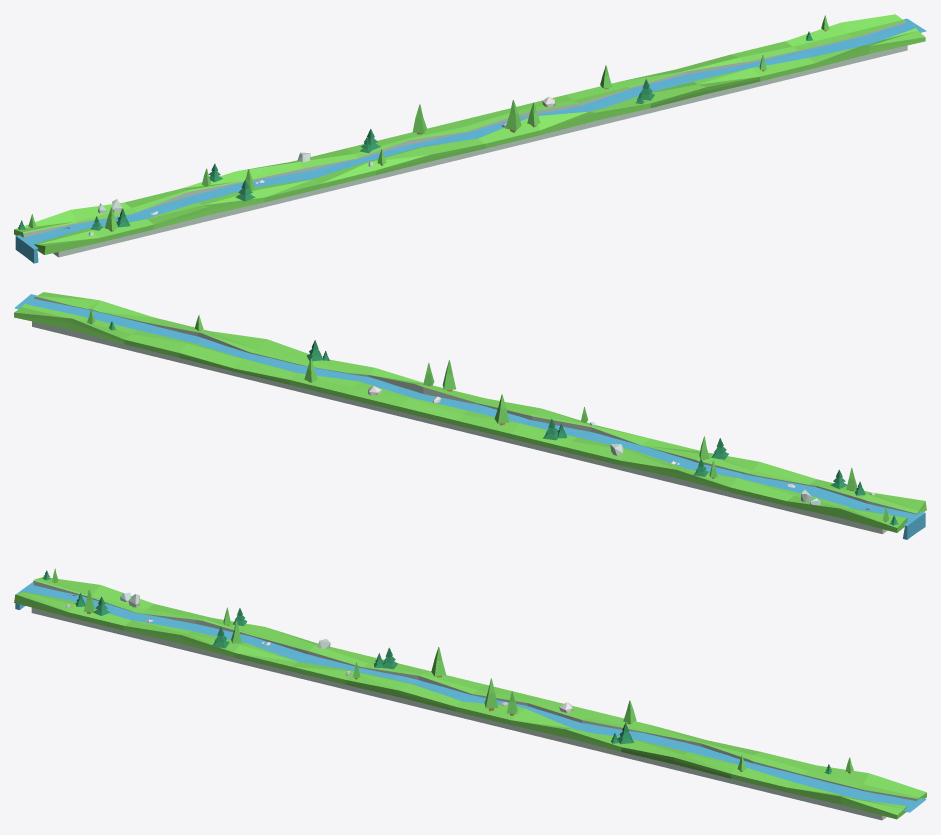
Rendered from FINAL_LOWPOLY_RIVER.glb.
The picture shows the model from 3 angles, top to bottom: view 1: azimuth 30°, elevation 25°; view 2: azimuth 150°, elevation 25°; view 3: azimuth 330°, elevation 25°; orthographic projection.
Visible parts, largest first — view 1: Cube, Plane; view 2: Cube, Plane; view 3: Cube, Plane.
Part boxes in pixels (x1,y1,x2,y2): Cube: (14,14,925,257); Plane: (15,18,926,263); Cube: (14,292,926,534); Plane: (14,294,925,539); Cube: (14,577,926,820); Plane: (15,582,926,812).
Size of the model in its own units: 134 by 6.98 by 8.58.
